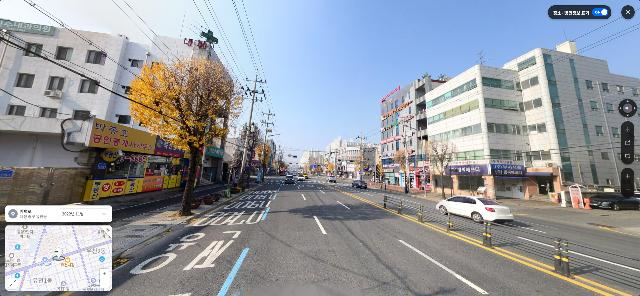ginkgo: (127, 51, 244, 216)
other: (427, 139, 460, 199), (240, 123, 264, 184), (394, 148, 419, 193)
